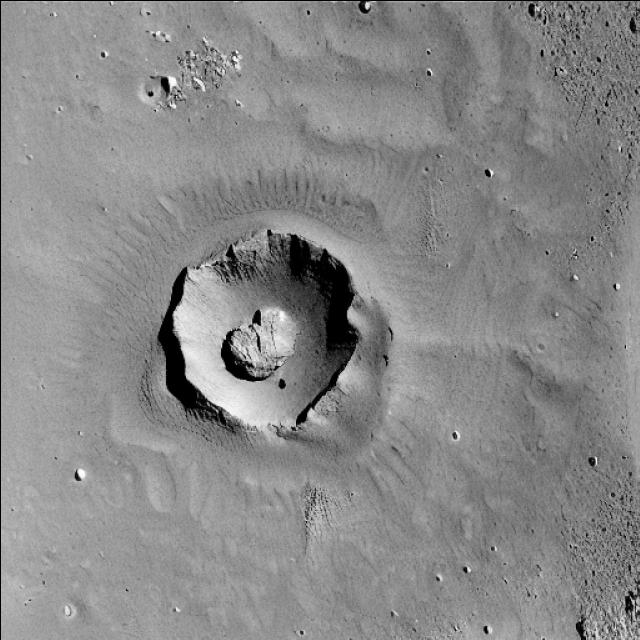crater: (170, 230, 360, 426)
